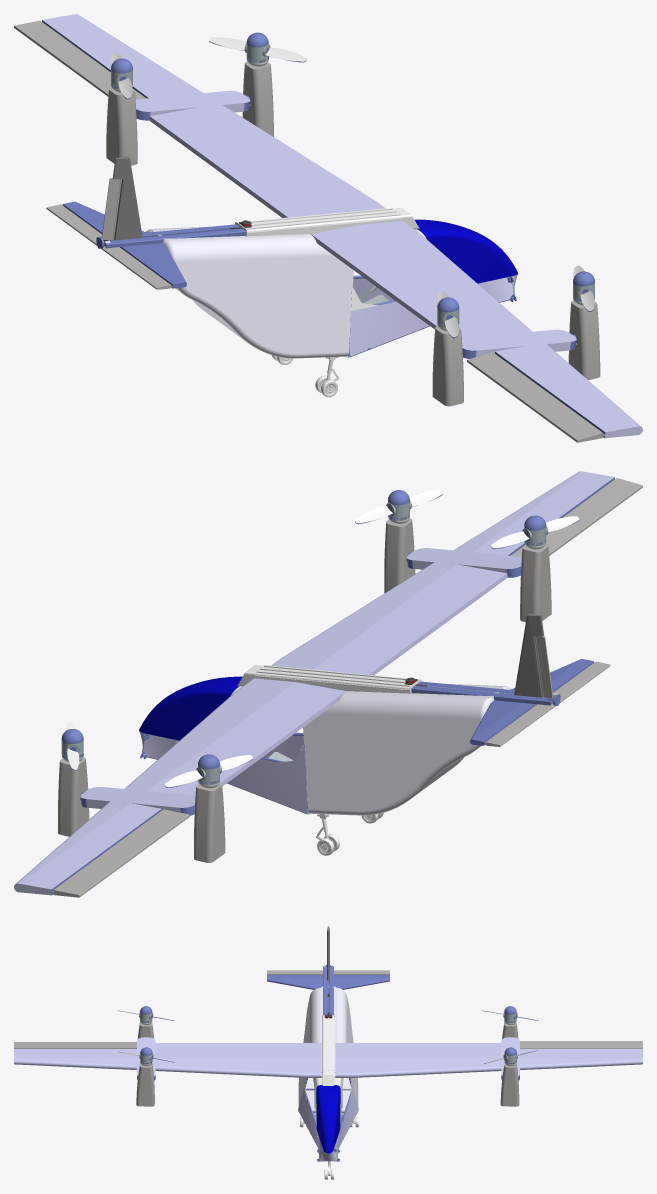
The model's file is VTOLAsset.fbx.
The picture shows the model from 3 angles, top to bottom: view 1: azimuth 30°, elevation 25°; view 2: azimuth 150°, elevation 25°; view 3: azimuth 270°, elevation 25°; orthographic projection. The views are drawn at different scales.
Visible parts, largest first — view 1: cockpit back, right wing, left wing, bone tail, UAV_Body, cockpit windshield, VTOL left wing elevator.001, bone body, VTOL left wing elevator, UAV_Motor2, UAV_Motor3, UAV_Motor4 (+7 smaller); view 2: cockpit back, left wing, right wing, bone tail, UAV_Body, cockpit windshield, VTOL left wing elevator, bone body, VTOL left wing elevator.001, UAV_Motor3, UAV_Motor2, UAV_Motor1 (+7 smaller); view 3: right wing, left wing, cockpit back, bone tail, cockpit windshield, UAV_Body, bone body, VTOL left wing elevator, VTOL left wing elevator.001, UAV_Motor1, UAV_Motor4, VTOL tail wing elevator.
Boxes of the visible parts, bbox=[...] form: cockpit back: bbox=[146, 226, 353, 358]; right wing: bbox=[311, 221, 642, 438]; left wing: bbox=[42, 14, 385, 217]; bone tail: bbox=[62, 156, 245, 288]; UAV_Body: bbox=[347, 277, 513, 357]; cockpit windshield: bbox=[351, 219, 517, 310]; VTOL left wing elevator.001: bbox=[467, 352, 604, 442]; bone body: bbox=[235, 208, 419, 236]; VTOL left wing elevator: bbox=[14, 20, 146, 99]; UAV_Motor2: bbox=[432, 326, 463, 406]; UAV_Motor3: bbox=[106, 87, 137, 165]; UAV_Motor4: bbox=[568, 300, 600, 380]; cockpit back: bbox=[303, 684, 511, 815]; left wing: bbox=[14, 678, 346, 895]; right wing: bbox=[271, 471, 614, 675]; bone tail: bbox=[411, 613, 594, 745]; UAV_Body: bbox=[143, 734, 309, 814]; cockpit windshield: bbox=[139, 676, 305, 768]; VTOL left wing elevator: bbox=[52, 809, 189, 897]; bone body: bbox=[237, 665, 422, 693]; VTOL left wing elevator.001: bbox=[511, 478, 642, 556]; UAV_Motor3: bbox=[194, 783, 225, 862]; UAV_Motor2: bbox=[520, 544, 551, 622]; UAV_Motor1: bbox=[58, 757, 89, 836]; right wing: bbox=[14, 1037, 321, 1080]; left wing: bbox=[335, 1037, 642, 1080]; cockpit back: bbox=[298, 986, 358, 1110]; bone tail: bbox=[267, 926, 389, 1014]; cockpit windshield: bbox=[303, 1078, 353, 1153]; UAV_Body: bbox=[298, 1090, 358, 1158]; bone body: bbox=[321, 1014, 335, 1085]; VTOL left wing elevator: bbox=[520, 1041, 642, 1048]; VTOL left wing elevator.001: bbox=[14, 1042, 136, 1048]; UAV_Motor1: bbox=[500, 1063, 519, 1106]; UAV_Motor4: bbox=[136, 1063, 154, 1106]; VTOL tail wing elevator: bbox=[267, 970, 389, 974].
Bounding box in the file's own units: 1022 × 438 × 268.
